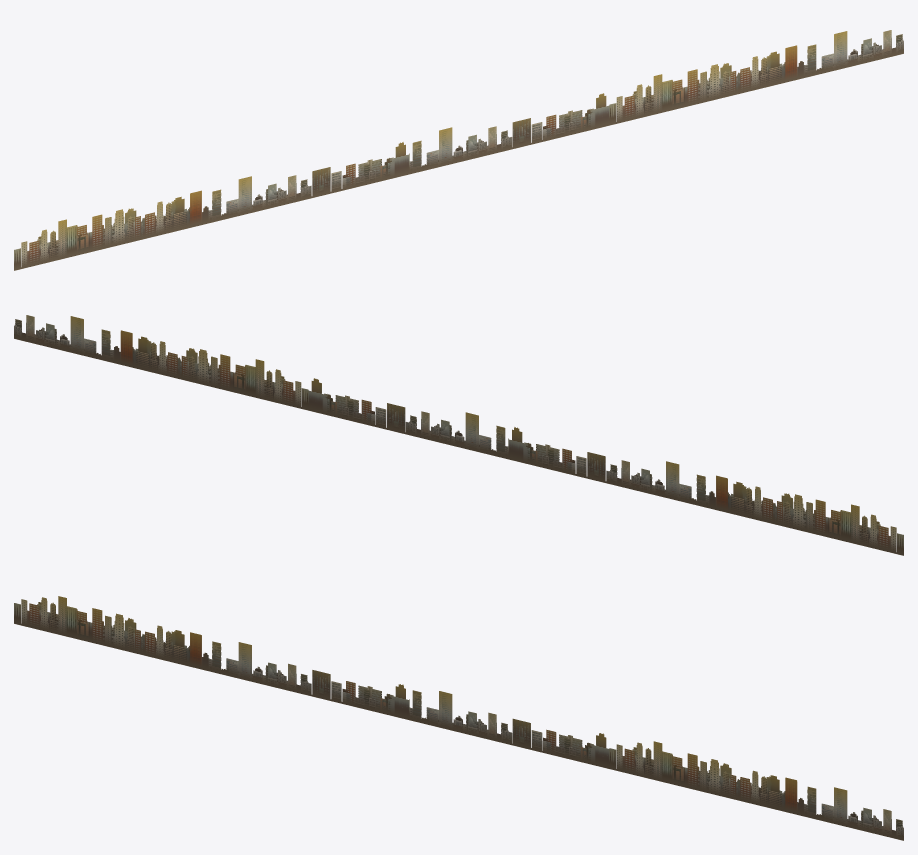
3 views of the same model, one above another, from view 1: azimuth 30°, elevation 25°; view 2: azimuth 150°, elevation 25°; view 3: azimuth 330°, elevation 25° (orthographic).
Visible parts, largest first — view 1: sc_gg_bj03; view 2: sc_gg_bj03; view 3: sc_gg_bj03.
Part boxes in pixels (x1,y1,x2,y2): sc_gg_bj03: (14,30,903,270); sc_gg_bj03: (14,315,903,555); sc_gg_bj03: (14,596,903,840).
Size of the model in its own units: 139605 by 5956 by 0.00026.
Materials: 1 (1 with a texture image).
